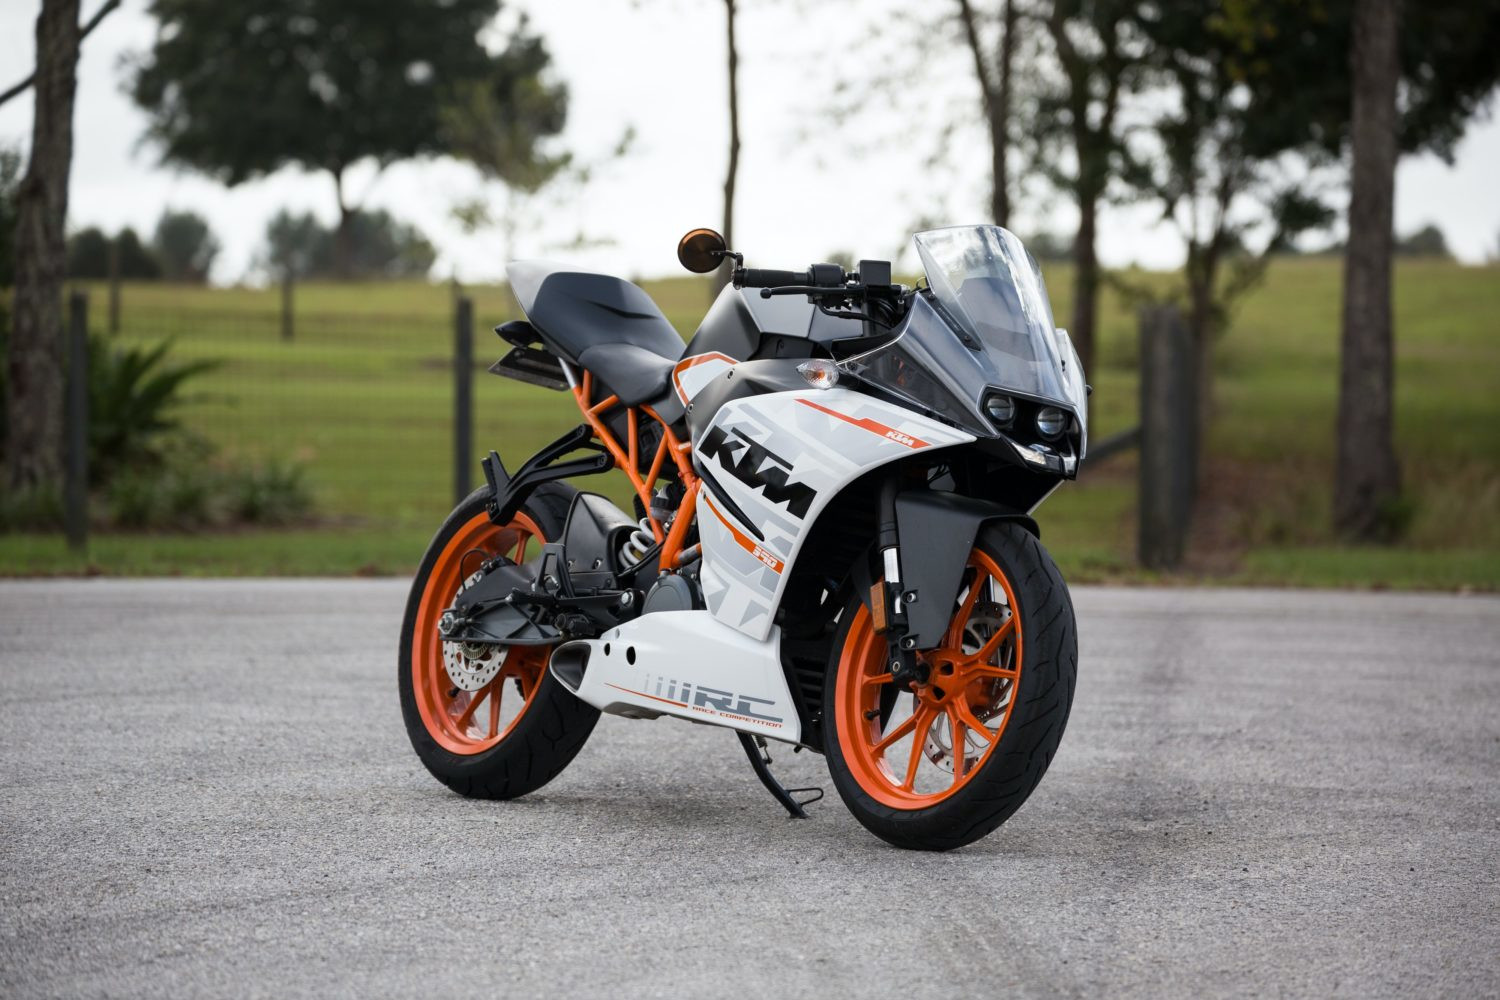bike: (395, 220, 1094, 853)
